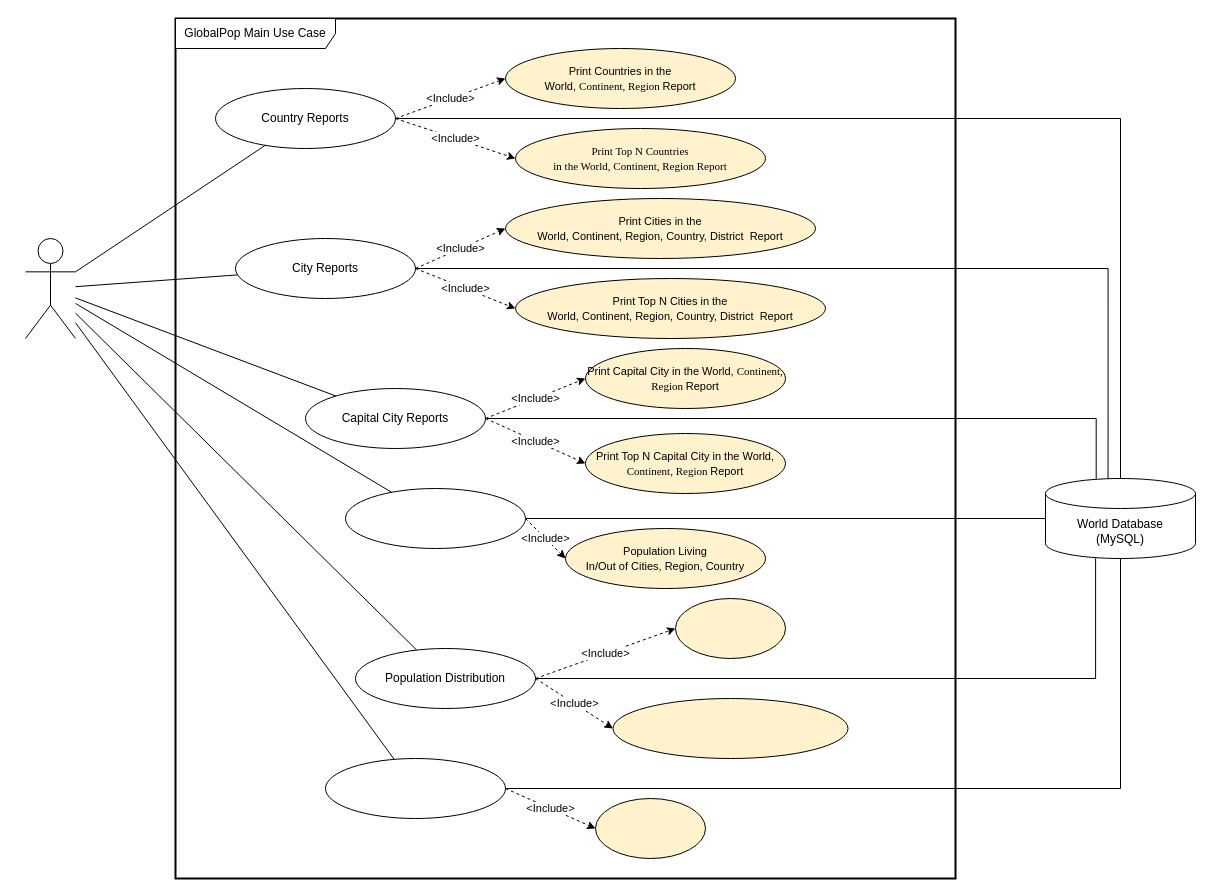
Some shapes in this 1213 by 896 pixel diagram are drawn without their labels. Each missing label, with the centre of its shape:
"Data Analyst" goes at (x=50, y=288).
"Language Report" goes at (x=415, y=788).
"Population Living In/Out of Cities" goes at (x=435, y=518).
"Print Language Statistics Report" goes at (x=650, y=828).
"Print Total Population of the Continent, Region, Country, District, City" goes at (x=730, y=728).
"Print Total World Population" goes at (x=730, y=628).
